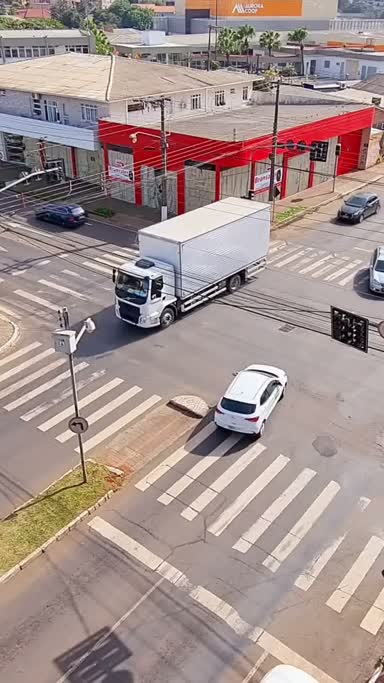car: (208, 350, 293, 454), (25, 193, 93, 237), (333, 183, 380, 236), (360, 241, 384, 295)
truck: (107, 194, 279, 338)
